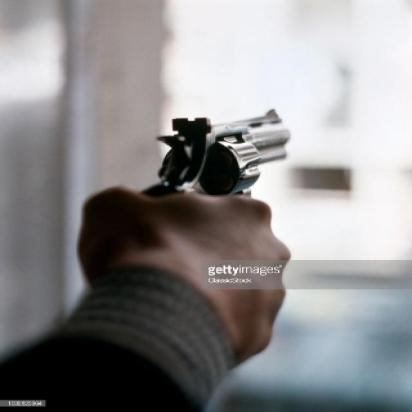Gun: (153, 107, 294, 198)
